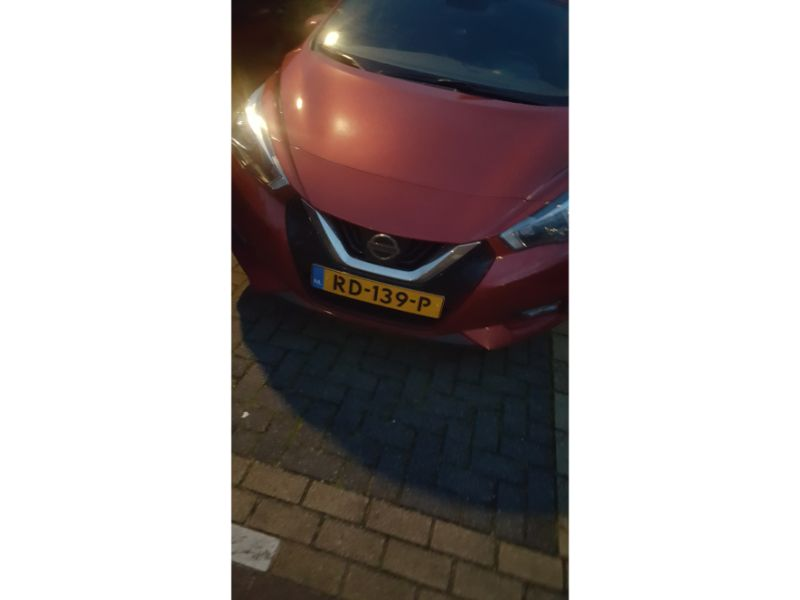kenteken: (308, 266, 452, 324)
